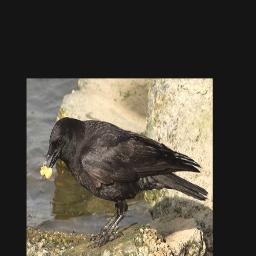Crow: (41, 116, 208, 248)
